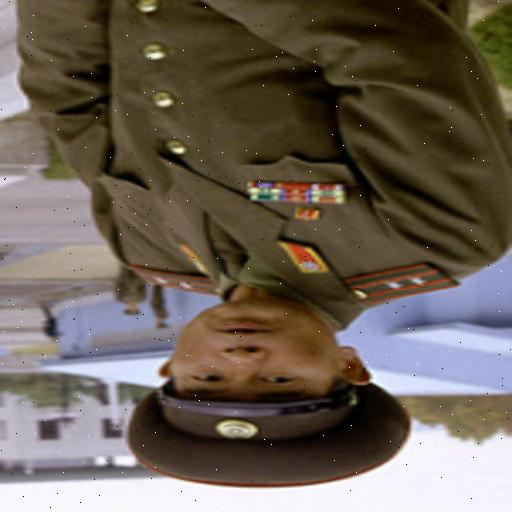north army: (40, 18, 463, 490)
